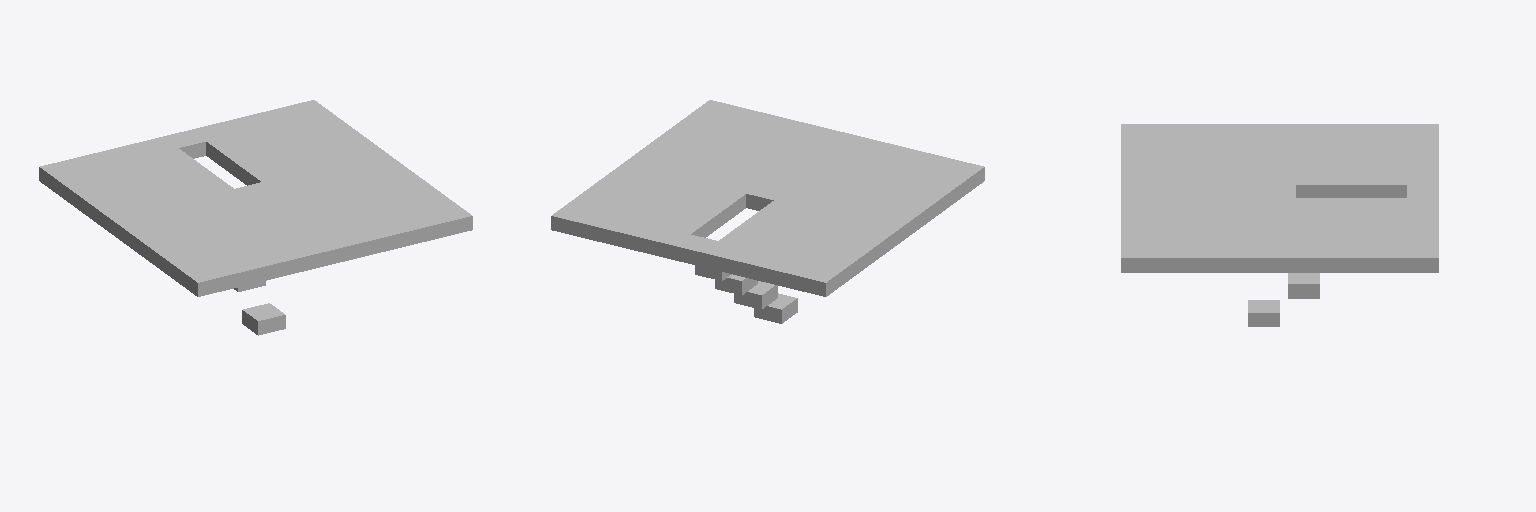
The model's file is stairs_platforms.obj.
3 views of the same model, side by side, from view 1: azimuth 30°, elevation 25°; view 2: azimuth 150°, elevation 25°; view 3: azimuth 270°, elevation 25° (orthographic).
Visible parts, largest first — view 1: stairs_platforms; view 2: stairs_platforms; view 3: stairs_platforms.
Part boxes in pixels (x1,y1,x2,y2): stairs_platforms: (39, 100, 472, 335); stairs_platforms: (551, 100, 984, 323); stairs_platforms: (1121, 124, 1438, 326).
Bounding box in the file's own units: 40 × 18 × 40.